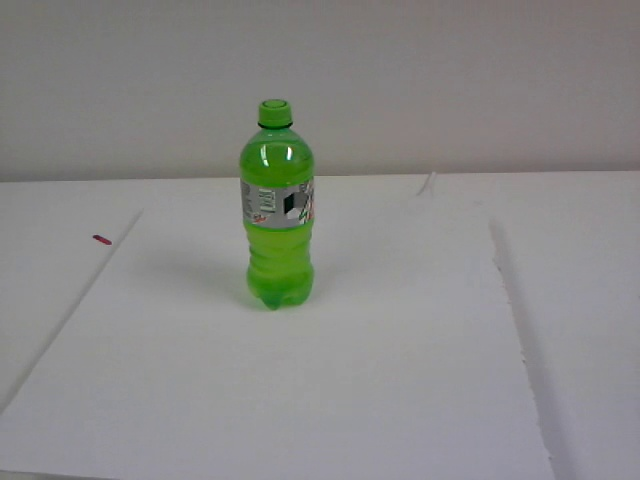botolplastik: (241, 100, 313, 310)
